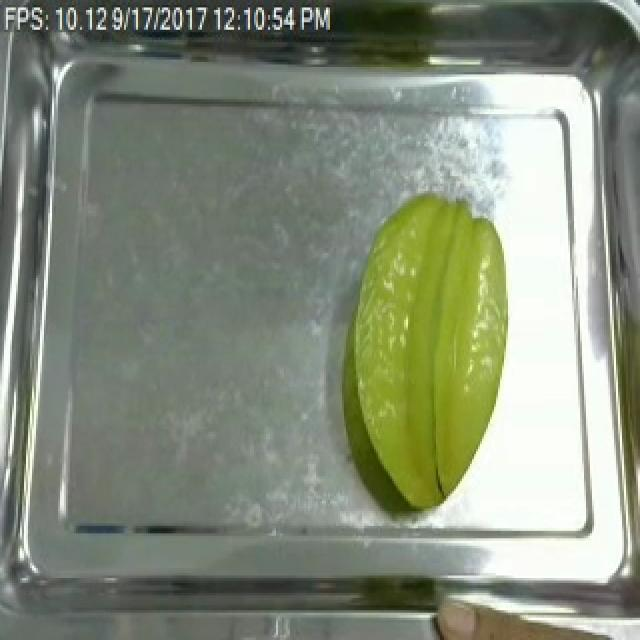fruit: (336, 186, 516, 521)
